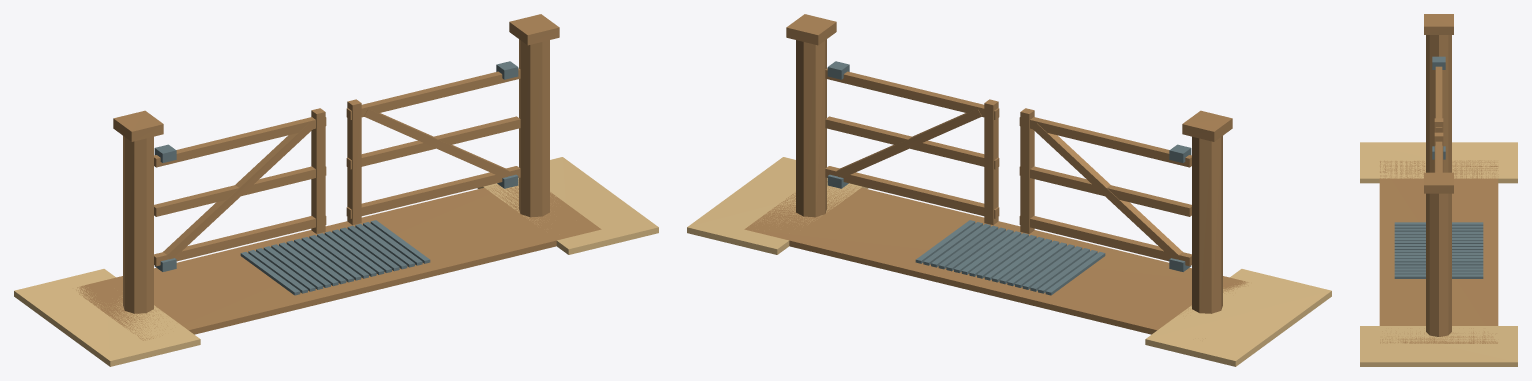
The model's file is farm-gate.source.glb.
The picture shows the model from 3 angles, left to right: view 1: azimuth 30°, elevation 25°; view 2: azimuth 150°, elevation 25°; view 3: azimuth 270°, elevation 25°; orthographic projection. The views are drawn at different scales.
Parts seen in each view (by area): view 1: farm-gate-road-threshold-mesh, farm-gate-earth-left-mesh, farm-gate-earth-right-mesh, farm-gate-teal-post--2.85-mesh, farm-gate-teal-post-2.85-mesh, farm-gate-left-brace-mesh, farm-gate-right-rail--0.68-mesh, farm-gate-right-rail-0-mesh, farm-gate-left-rail--0.68-mesh, farm-gate-right-rail-0.68-mesh, farm-gate-left-rail-0-mesh, farm-gate-left-rail-0.68-mesh (+5 smaller); view 2: farm-gate-road-threshold-mesh, farm-gate-earth-left-mesh, farm-gate-earth-right-mesh, farm-gate-teal-post--2.85-mesh, farm-gate-teal-post-2.85-mesh, farm-gate-left-brace-mesh, farm-gate-right-rail--0.68-mesh, farm-gate-right-rail-0-mesh, farm-gate-left-rail--0.68-mesh, farm-gate-right-rail-0.68-mesh, farm-gate-left-rail-0-mesh, farm-gate-left-rail-0.68-mesh (+5 smaller); view 3: farm-gate-road-threshold-mesh, farm-gate-earth-right-mesh, farm-gate-earth-left-mesh, farm-gate-teal-post-2.85-mesh, farm-gate-teal-post--2.85-mesh, farm-gate-post-cap-2.85-mesh, farm-gate-post-cap--2.85-mesh, farm-gate-left-rail-0.68-mesh, farm-gate-drain-slat-17-mesh, farm-gate-drain-slat-0-mesh, farm-gate-right-rail-0.68-mesh, farm-gate-drain-slat-1-mesh (+17 smaller).
Part boxes in pixels (x1=…): farm-gate-road-threshold-mesh: x1=76, y1=179, x2=601, y2=340; farm-gate-earth-left-mesh: x1=14, y1=269, x2=200, y2=366; farm-gate-earth-right-mesh: x1=477, y1=157, x2=658, y2=254; farm-gate-teal-post--2.85-mesh: x1=123, y1=136, x2=153, y2=313; farm-gate-teal-post-2.85-mesh: x1=519, y1=39, x2=549, y2=217; farm-gate-left-brace-mesh: x1=163, y1=123, x2=312, y2=259; farm-gate-right-rail--0.68-mesh: x1=346, y1=166, x2=520, y2=218; farm-gate-right-rail-0-mesh: x1=346, y1=116, x2=520, y2=169; farm-gate-left-rail--0.68-mesh: x1=154, y1=216, x2=326, y2=266; farm-gate-right-rail-0.68-mesh: x1=346, y1=68, x2=520, y2=119; farm-gate-left-rail-0-mesh: x1=154, y1=166, x2=326, y2=216; farm-gate-left-rail-0.68-mesh: x1=154, y1=117, x2=326, y2=167; farm-gate-road-threshold-mesh: x1=744, y1=181, x2=1248, y2=338; farm-gate-earth-left-mesh: x1=1145, y1=269, x2=1331, y2=366; farm-gate-earth-right-mesh: x1=687, y1=157, x2=868, y2=254; farm-gate-teal-post--2.85-mesh: x1=1192, y1=136, x2=1222, y2=313; farm-gate-teal-post-2.85-mesh: x1=796, y1=39, x2=826, y2=217; farm-gate-left-brace-mesh: x1=1033, y1=123, x2=1182, y2=259; farm-gate-right-rail--0.68-mesh: x1=825, y1=166, x2=999, y2=218; farm-gate-right-rail-0-mesh: x1=825, y1=116, x2=999, y2=169; farm-gate-left-rail--0.68-mesh: x1=1019, y1=216, x2=1191, y2=266; farm-gate-right-rail-0.68-mesh: x1=825, y1=68, x2=999, y2=119; farm-gate-left-rail-0-mesh: x1=1019, y1=166, x2=1191, y2=216; farm-gate-left-rail-0.68-mesh: x1=1019, y1=117, x2=1191, y2=167; farm-gate-road-threshold-mesh: x1=1379, y1=160, x2=1498, y2=343; farm-gate-earth-right-mesh: x1=1360, y1=326, x2=1517, y2=366; farm-gate-earth-left-mesh: x1=1360, y1=142, x2=1517, y2=183; farm-gate-teal-post-2.85-mesh: x1=1426, y1=193, x2=1451, y2=336; farm-gate-teal-post--2.85-mesh: x1=1426, y1=35, x2=1451, y2=172; farm-gate-post-cap-2.85-mesh: x1=1424, y1=172, x2=1453, y2=193; farm-gate-post-cap--2.85-mesh: x1=1424, y1=14, x2=1453, y2=34; farm-gate-left-rail-0.68-mesh: x1=1435, y1=66, x2=1442, y2=132; farm-gate-drain-slat-17-mesh: x1=1394, y1=274, x2=1483, y2=278; farm-gate-drain-slat-0-mesh: x1=1394, y1=222, x2=1483, y2=225; farm-gate-right-rail-0.68-mesh: x1=1435, y1=141, x2=1442, y2=172; farm-gate-drain-slat-1-mesh: x1=1394, y1=225, x2=1483, y2=228.
Size of the model in its own units: 7.9 by 2.64 by 2.4.
